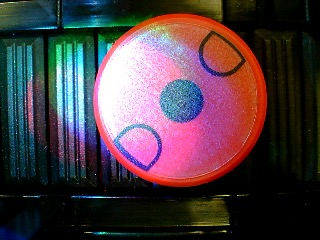BOHOMIPO2: (93, 13, 268, 187)
